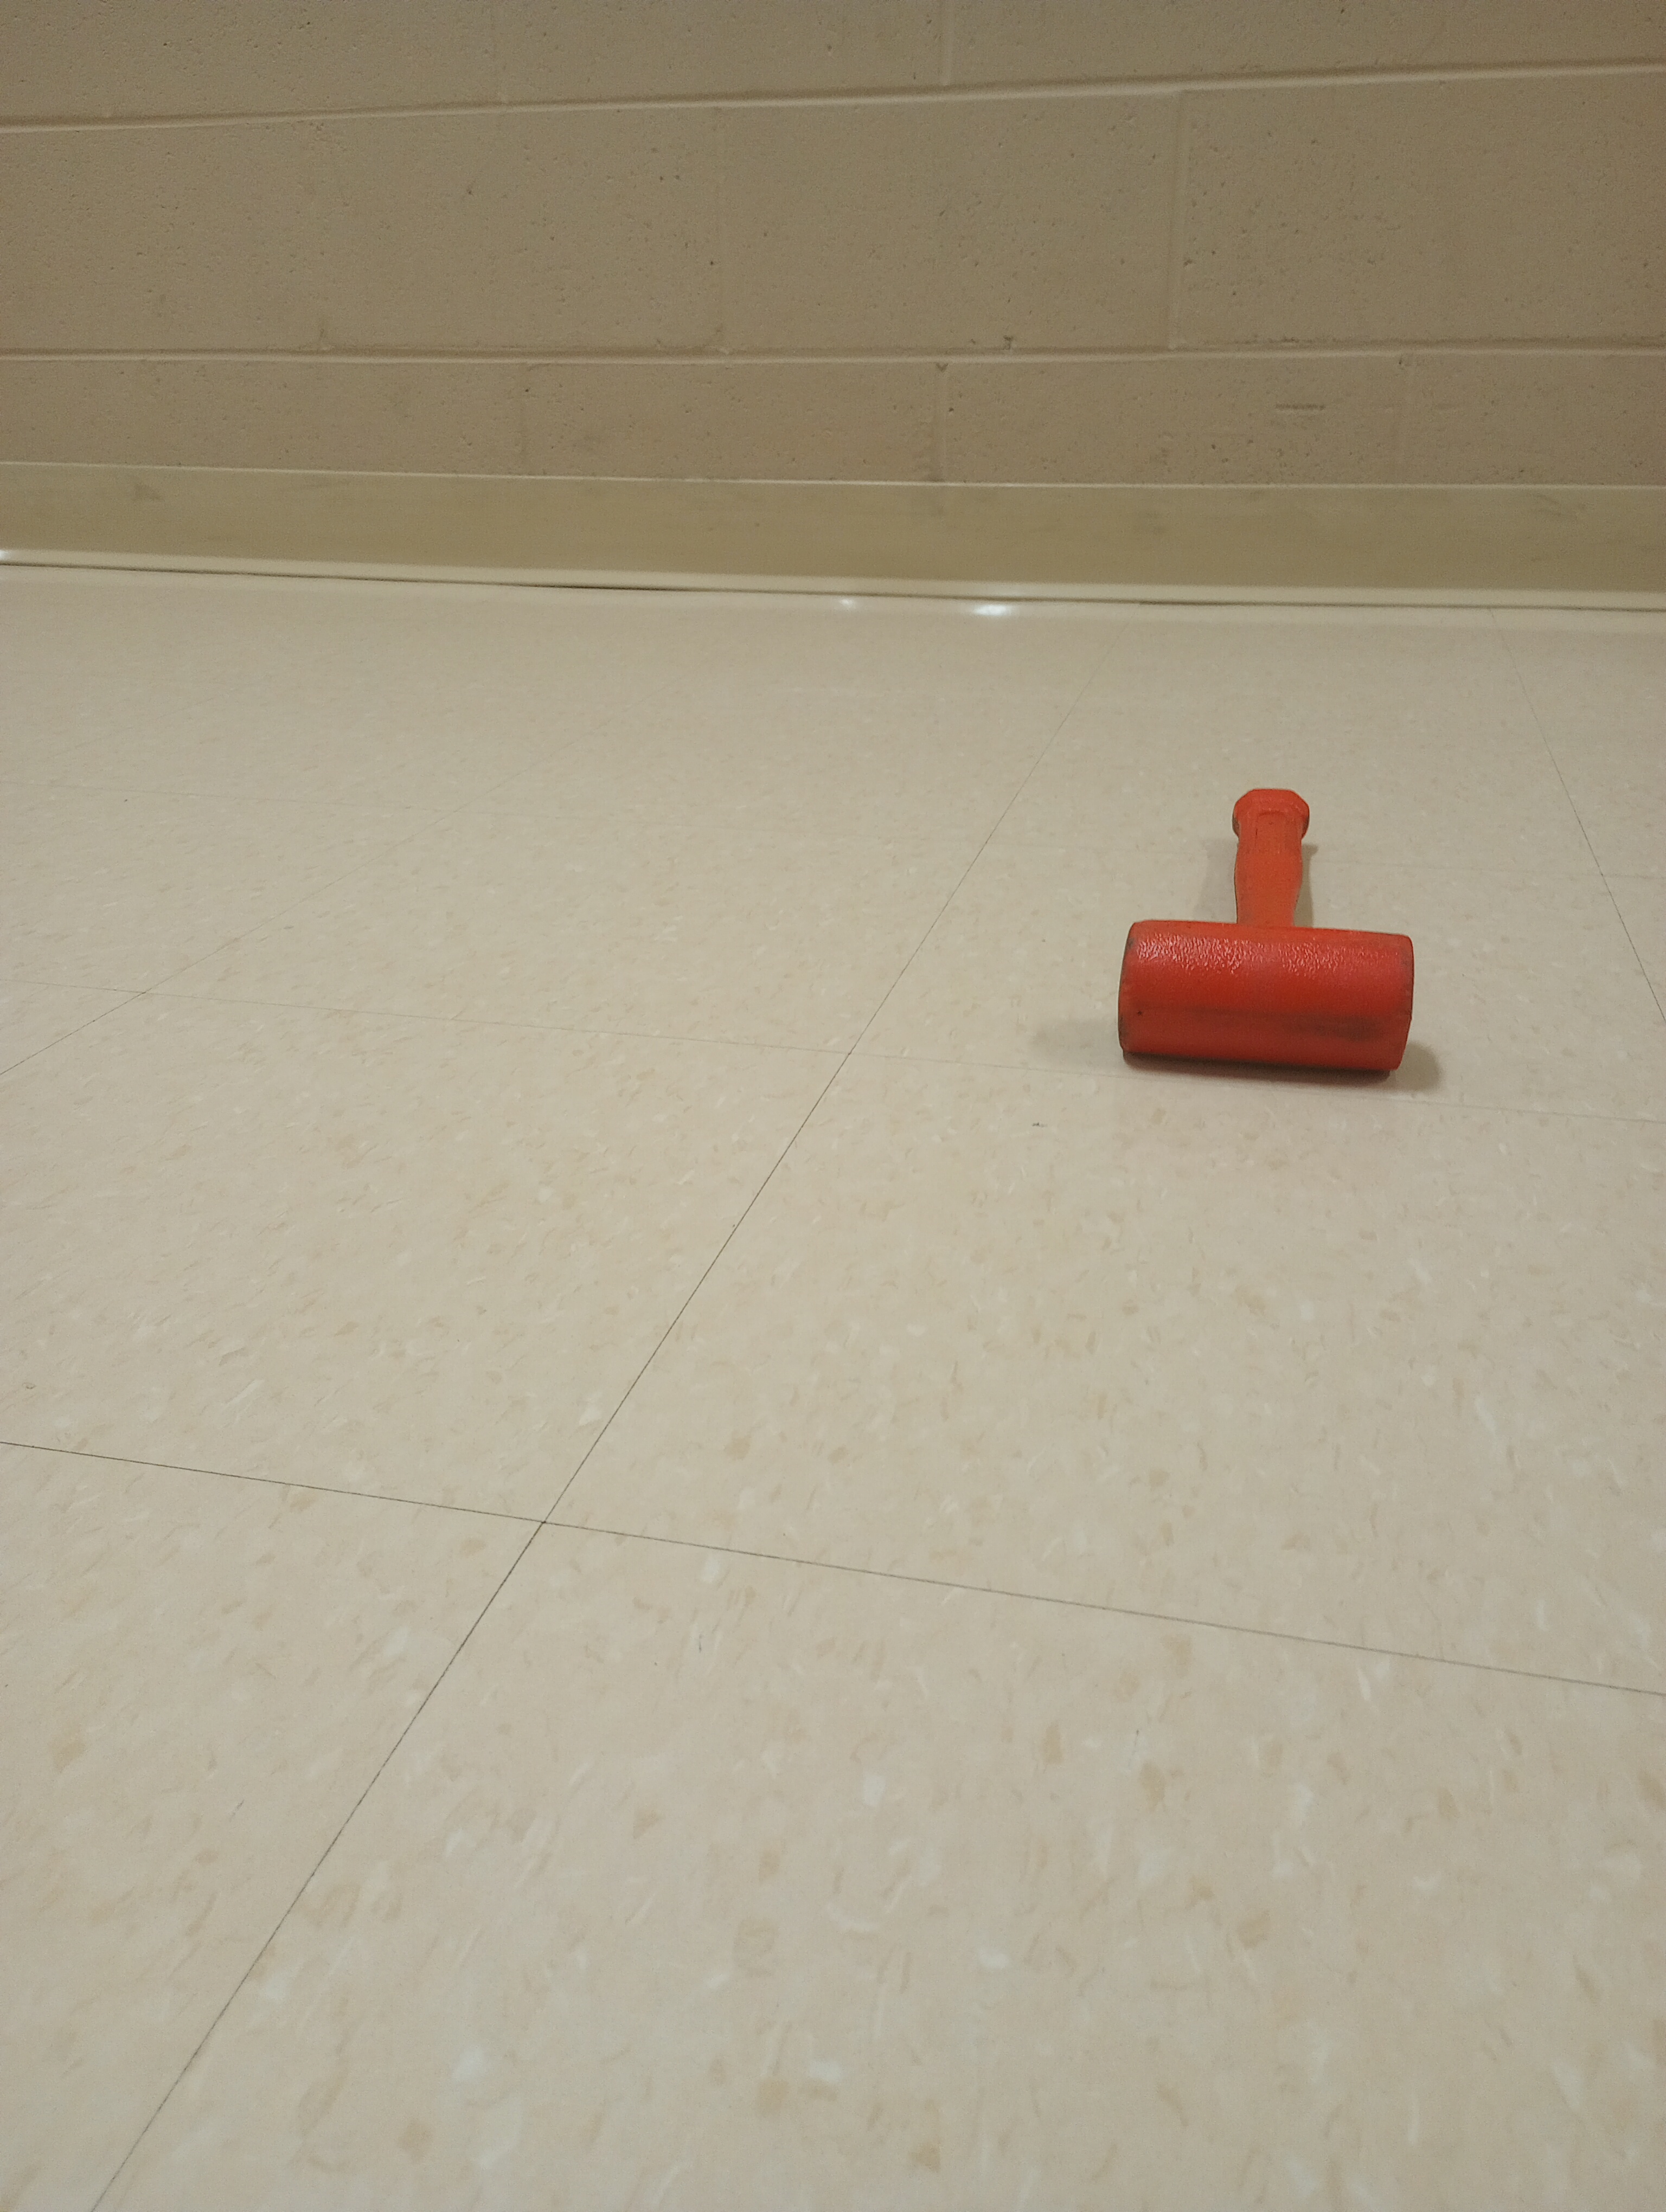bottle: (1113, 776, 1418, 1081)
